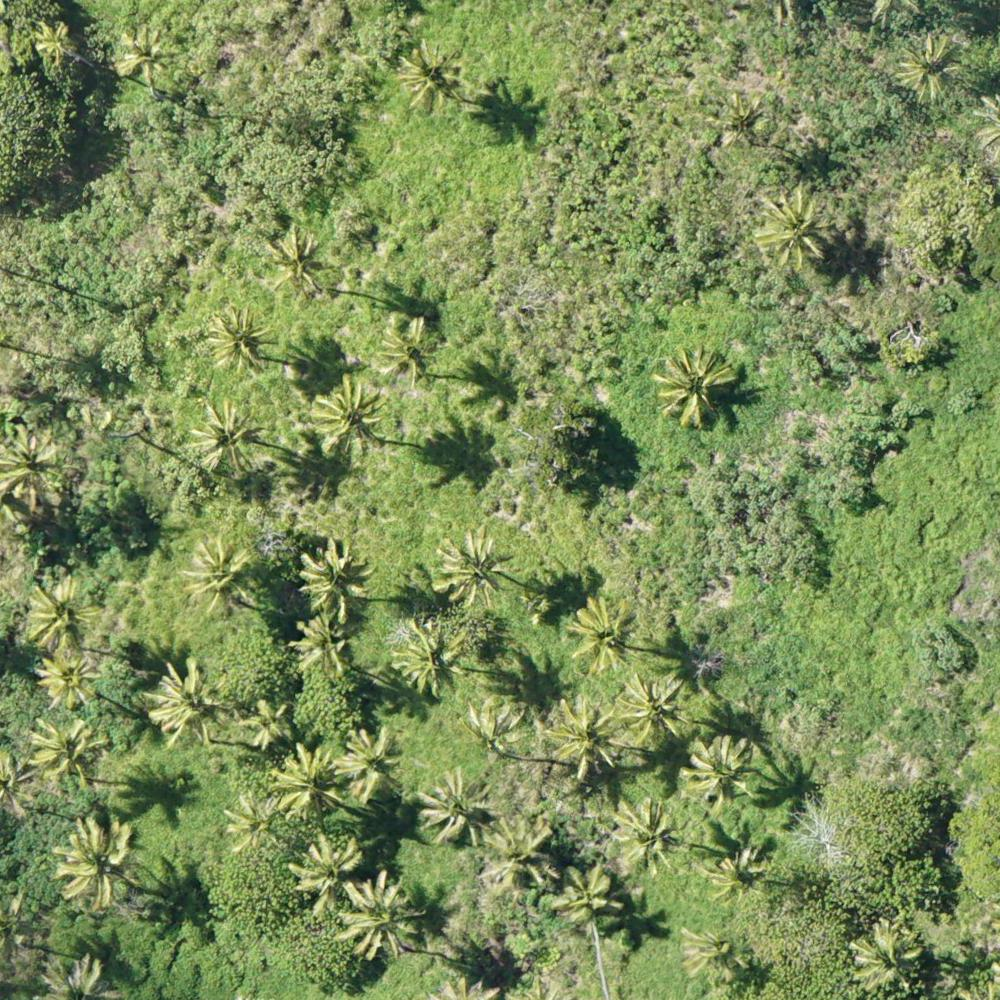Palm: (143, 661, 236, 743), (59, 819, 141, 911), (542, 699, 622, 781), (662, 346, 739, 427), (189, 397, 261, 482), (347, 880, 419, 964), (26, 719, 105, 793), (435, 527, 507, 606), (183, 538, 259, 612), (391, 621, 468, 694), (20, 584, 105, 650), (314, 375, 387, 451), (604, 800, 675, 878), (290, 835, 362, 911), (484, 816, 559, 888), (420, 768, 491, 843), (298, 548, 379, 613), (617, 674, 687, 746), (686, 732, 755, 805), (1, 429, 64, 508), (763, 191, 834, 261), (570, 599, 637, 673), (276, 745, 345, 814), (334, 729, 401, 799), (396, 44, 465, 111), (850, 924, 919, 989), (896, 35, 965, 99), (383, 318, 441, 392), (556, 866, 622, 931), (262, 230, 326, 297), (463, 698, 528, 762), (203, 308, 269, 369), (113, 25, 176, 86), (682, 928, 746, 985), (292, 616, 352, 676), (230, 794, 286, 855), (711, 846, 769, 901), (39, 657, 99, 708), (245, 694, 292, 754), (30, 18, 80, 67), (719, 94, 770, 142)
